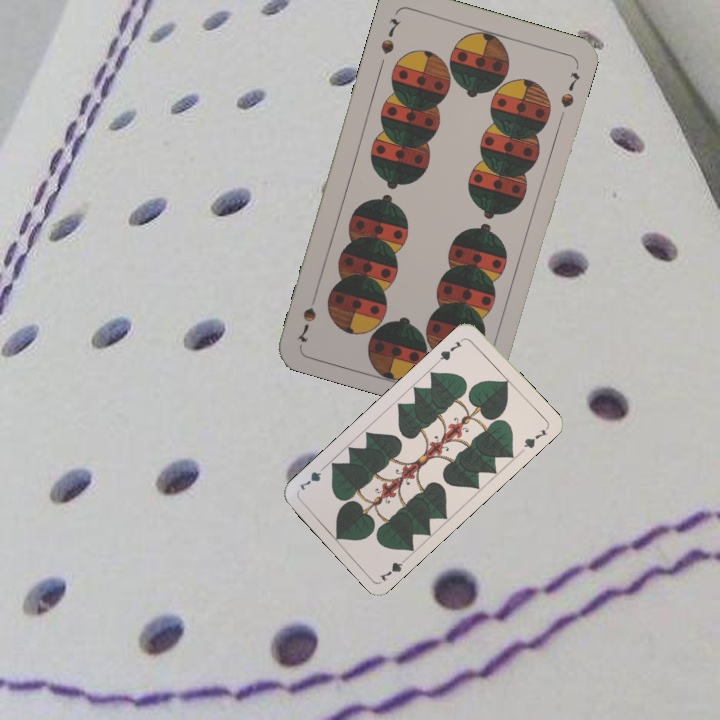G7: (375, 552, 411, 584), (434, 334, 467, 366)
S7: (376, 14, 403, 57)
